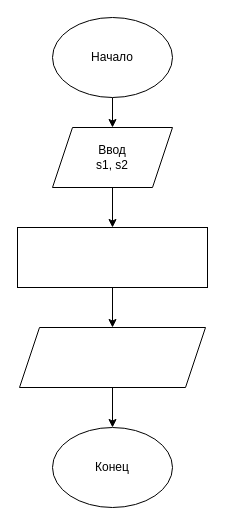
The diagram is 225 pixels wide and 525 high, and some of its shapes have lost their labels. The box of each missing label's shape, as (x1, y1, x2, y2) in pixels:
pos_s1, pos_s2 qty = pos_s2 - pos_s1 + 1: (16, 226, 208, 288)
Вывод pos_s1, pos_s2, qty: (18, 326, 206, 388)
